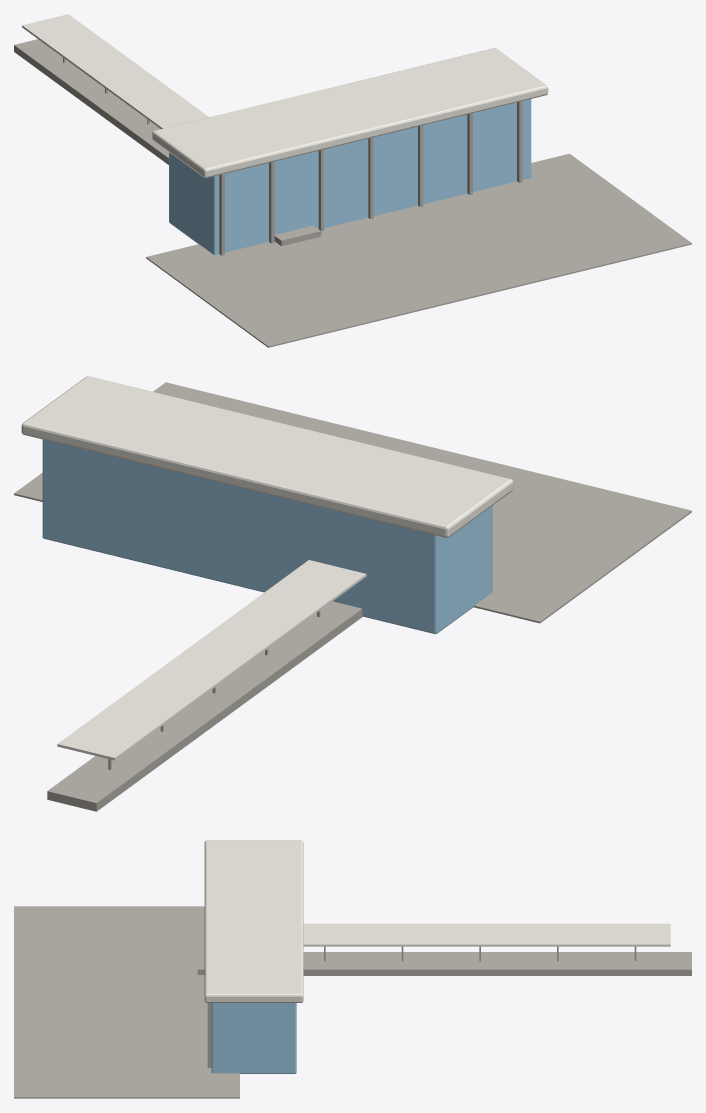
File: BusanStation_blockout.glb
3 views of the same model, one above another, from view 1: azimuth 30°, elevation 25°; view 2: azimuth 150°, elevation 25°; view 3: azimuth 270°, elevation 25° (orthographic). The views are drawn at different scales.
Parts seen in each view (by area): view 1: ENV01_BusanStation_Plaza_L0, ENV01_BusanStation_StationBody_L0, ENV01_BusanStation_StationRoof_L0, ENV01_BusanStation_Canopy_L0, ENV01_BusanStation_Platform_L0; view 2: ENV01_BusanStation_StationBody_L0, ENV01_BusanStation_StationRoof_L0, ENV01_BusanStation_Plaza_L0, ENV01_BusanStation_Canopy_L0, ENV01_BusanStation_Platform_L0; view 3: ENV01_BusanStation_Plaza_L0, ENV01_BusanStation_StationRoof_L0, ENV01_BusanStation_Platform_L0, ENV01_BusanStation_Canopy_L0, ENV01_BusanStation_StationBody_L0.
Boxes of the visible parts, x1,y1,x2,y2 form: ENV01_BusanStation_Plaza_L0: (146, 153, 691, 347); ENV01_BusanStation_StationBody_L0: (169, 99, 531, 254); ENV01_BusanStation_StationRoof_L0: (152, 48, 548, 178); ENV01_BusanStation_Canopy_L0: (22, 14, 209, 128); ENV01_BusanStation_Platform_L0: (14, 39, 321, 246); ENV01_BusanStation_StationBody_L0: (42, 439, 492, 634); ENV01_BusanStation_StationRoof_L0: (21, 376, 513, 537); ENV01_BusanStation_Plaza_L0: (14, 382, 691, 623); ENV01_BusanStation_Canopy_L0: (57, 560, 366, 760); ENV01_BusanStation_Platform_L0: (47, 601, 362, 811); ENV01_BusanStation_Plaza_L0: (14, 906, 239, 1098); ENV01_BusanStation_StationRoof_L0: (204, 840, 303, 1002); ENV01_BusanStation_Platform_L0: (197, 952, 691, 975); ENV01_BusanStation_Canopy_L0: (303, 923, 670, 946); ENV01_BusanStation_StationBody_L0: (211, 1003, 296, 1073).
Bounding box in the file's own units: 64 × 13.4 × 96.
